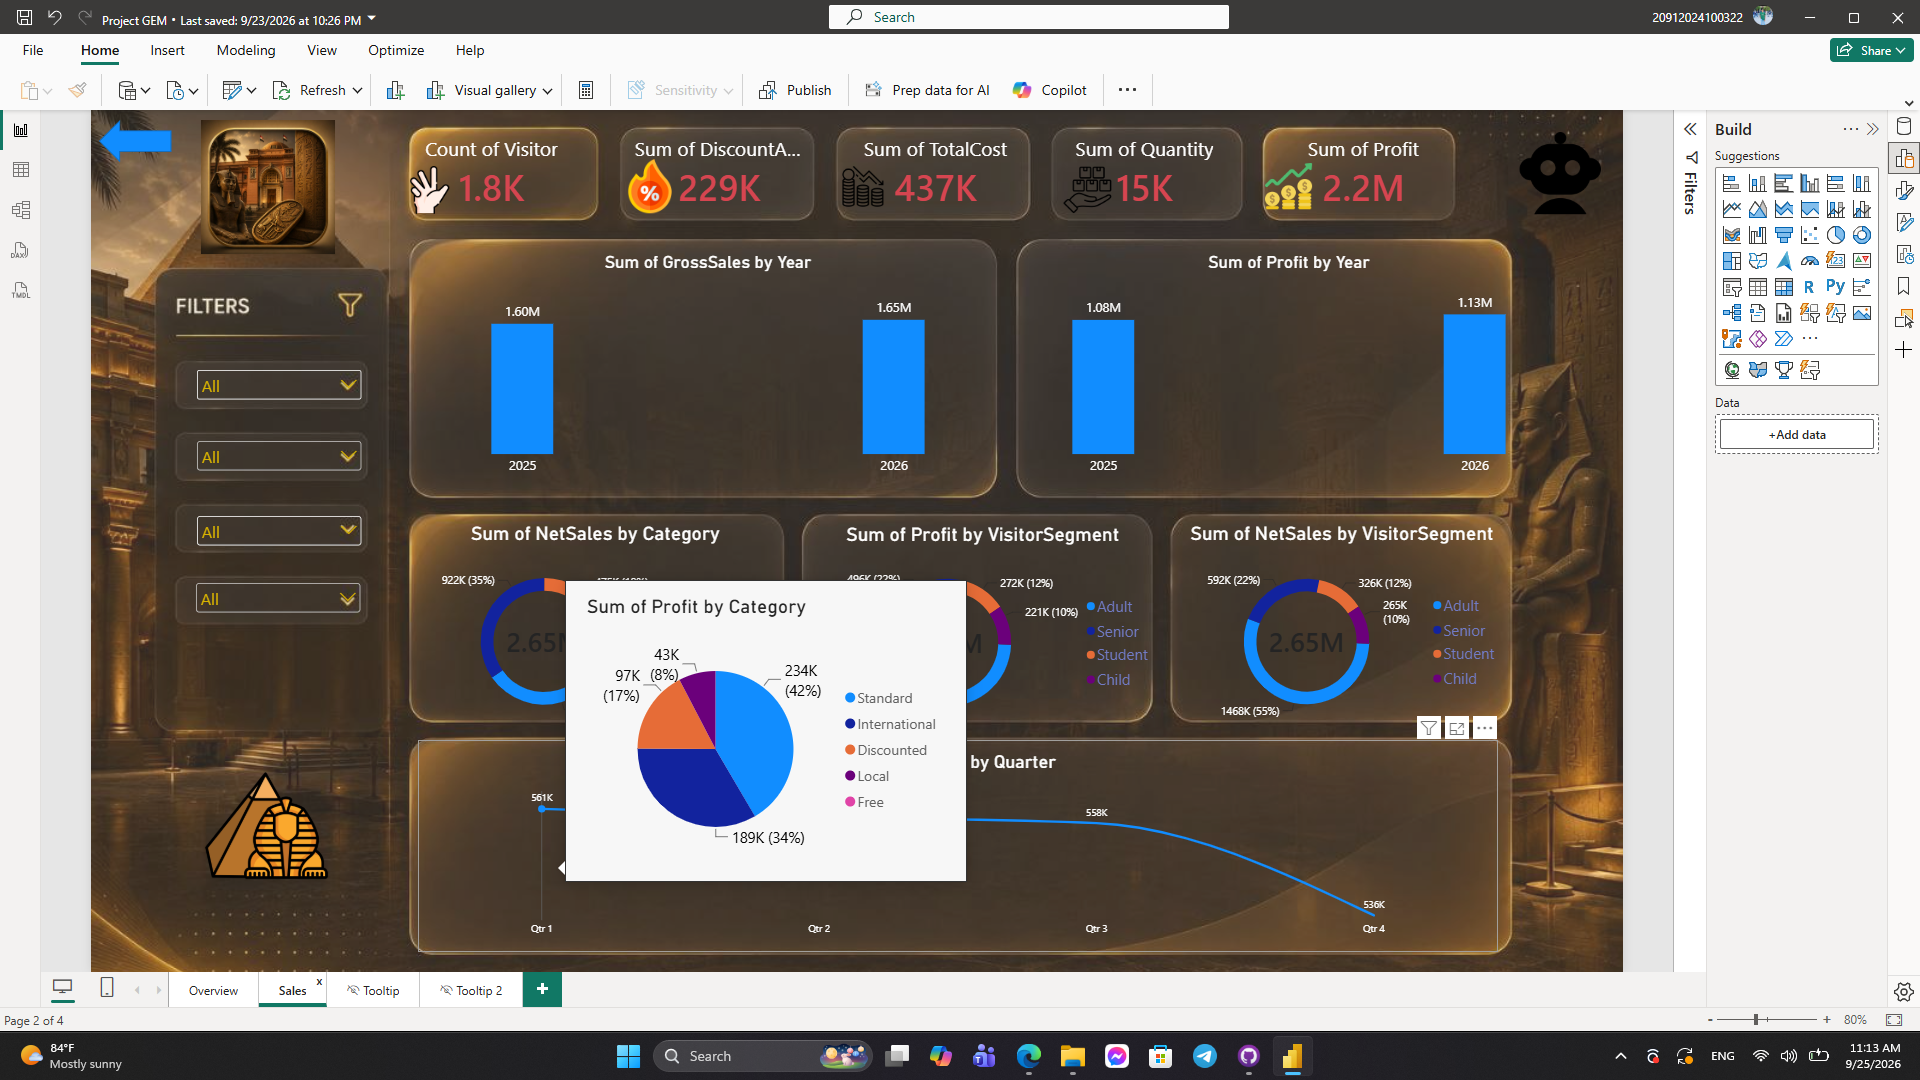

What the dashboard file says about the page in this screenshot:
{"tool":"powerbi","page":{"name":"Sales ","canvas":[1920,1080],"ordinal":1},"visuals":[{"type":"cardVisual","fields":{"Data":["CountNonNull(DimVisitor.VisitorKey)"]},"box":[371.1,12,262,133],"z":0},{"type":"cardVisual","fields":{"Data":["Sum(FactSales.Profit)"]},"box":[1463.1,12,262,133],"z":1000},{"type":"cardVisual","fields":{"Data":["Sum(FactSales.Quantity)"]},"box":[1189.1,12,262,133],"z":2000},{"type":"cardVisual","fields":{"Data":["Sum(FactSales.TotalCost)"]},"box":[927,12,262,133],"z":3000},{"type":"cardVisual","fields":{"Data":["Sum(FactSales.DiscountAmount)"]},"box":[665.2,12.1,244.9,133],"z":4000},{"type":"slicer","fields":{"Values":["DimVisitor.Country"]},"box":[127.7,320.5,216.2,68],"z":5000},{"type":"slicer","fields":{"Values":["DimVisitor.Gender"]},"box":[127.7,504.1,216.2,68],"z":6000},{"type":"slicer","fields":{"Values":["DimTicket.Category"]},"box":[126.4,587.9,216.2,68],"z":7000},{"type":"slicer","fields":{"Values":["DimDate.Date.Variation.Date Hierarchy.Year"]},"box":[127.7,409.7,216.2,68],"z":8000},{"type":"columnChart","fields":{"Category":["DimDate.Date.Variation.Date Hierarchy.Year","DimDate.Date.Variation.Date Hierarchy.Quarter","DimDate.Date.Variation.Date Hierarchy.Month","DimDate.Date.Variation.Date Hierarchy.Day"],"Y":["Sum(FactSales.Profit)"]},"box":[1190.4,163.6,621.4,312.9],"z":9000},{"type":"columnChart","fields":{"Category":["DimDate.Date.Variation.Date Hierarchy.Year","DimDate.Date.Variation.Date Hierarchy.Quarter","DimDate.Date.Variation.Date Hierarchy.Month","DimDate.Date.Variation.Date Hierarchy.Day"],"Y":["Sum(FactSales.GrossSales)"]},"box":[462.9,163.6,621.4,312.9],"z":10000},{"type":"donutChart","fields":{"Category":["DimTicket.Category"],"Y":["Sum(FactSales.NetSales)"]},"box":[387,501.9,489.8,285.7],"z":11000},{"type":"donutChart","fields":{"Category":["DimVisitor.VisitorSegment"],"Y":["Sum(FactSales.Profit)"]},"box":[884.4,503.4,465.5,286],"z":12000},{"type":"donutChart","fields":{"Category":["DimVisitor.VisitorSegment"],"Y":["Sum(FactSales.NetSales)"]},"box":[1350,502.8,433.6,286],"z":13000},{"type":"lineChart","fields":{"Category":["DimDate.Date.Variation.Date Hierarchy.Quarter"],"Y":["Sum(FactSales.Profit)"]},"box":[409.7,788.7,1352.7,266],"z":14000},{"type":"shape","box":[10.6,12.1,90.7,52.9],"z":14001},{"type":"image","box":[113.4,814.9,216.2,170.8],"z":14002},{"type":"image","box":[107.3,12.1,228.3,167.8],"z":14003},{"type":"image","box":[665.2,62,69.5,68],"z":14004},{"type":"image","box":[1212.5,69.5,71.1,60.5],"z":14005},{"type":"image","box":[926.7,69.5,80.1,51.4],"z":14006},{"type":"image","box":[370.4,69.5,107.3,60.5],"z":14007},{"type":"image","box":[1471,62,59,68],"z":14008},{"type":"image","box":[1773.4,27.2,136.1,102.8],"z":14009}]}

Visuals, with their boxes on the page's 1920x1080 design canvas (x1, y1, x2, y2). These are canvas units, not pixel positions in the 1920x1080 screenshot, which may show the page scaled, cropped or inside an application window:
cardVisual - CountNonNull(DimVisitor.VisitorKey): detection(371, 12, 633, 145)
cardVisual - Sum(FactSales.Profit): detection(1463, 12, 1725, 145)
cardVisual - Sum(FactSales.Quantity): detection(1189, 12, 1451, 145)
cardVisual - Sum(FactSales.TotalCost): detection(927, 12, 1189, 145)
cardVisual - Sum(FactSales.DiscountAmount): detection(665, 12, 910, 145)
slicer - DimVisitor.Country: detection(128, 320, 344, 388)
slicer - DimVisitor.Gender: detection(128, 504, 344, 572)
slicer - DimTicket.Category: detection(126, 588, 343, 656)
slicer - DimDate.Date.Variation.Date Hierarchy.Year: detection(128, 410, 344, 478)
columnChart - DimDate.Date.Variation.Date Hierarchy.Year x DimDate.Date.Variation.Date Hierarchy.Quarter: detection(1190, 164, 1812, 476)
columnChart - DimDate.Date.Variation.Date Hierarchy.Year x DimDate.Date.Variation.Date Hierarchy.Quarter: detection(463, 164, 1084, 476)
donutChart - DimTicket.Category x Sum(FactSales.NetSales): detection(387, 502, 877, 788)
donutChart - DimVisitor.VisitorSegment x Sum(FactSales.Profit): detection(884, 503, 1350, 789)
donutChart - DimVisitor.VisitorSegment x Sum(FactSales.NetSales): detection(1350, 503, 1784, 789)
lineChart - DimDate.Date.Variation.Date Hierarchy.Quarter x Sum(FactSales.Profit): detection(410, 789, 1762, 1055)
shape: detection(11, 12, 101, 65)
image: detection(113, 815, 330, 986)
image: detection(107, 12, 336, 180)
image: detection(665, 62, 735, 130)
image: detection(1212, 70, 1284, 130)
image: detection(927, 70, 1007, 121)
image: detection(370, 70, 478, 130)
image: detection(1471, 62, 1530, 130)
image: detection(1773, 27, 1910, 130)
